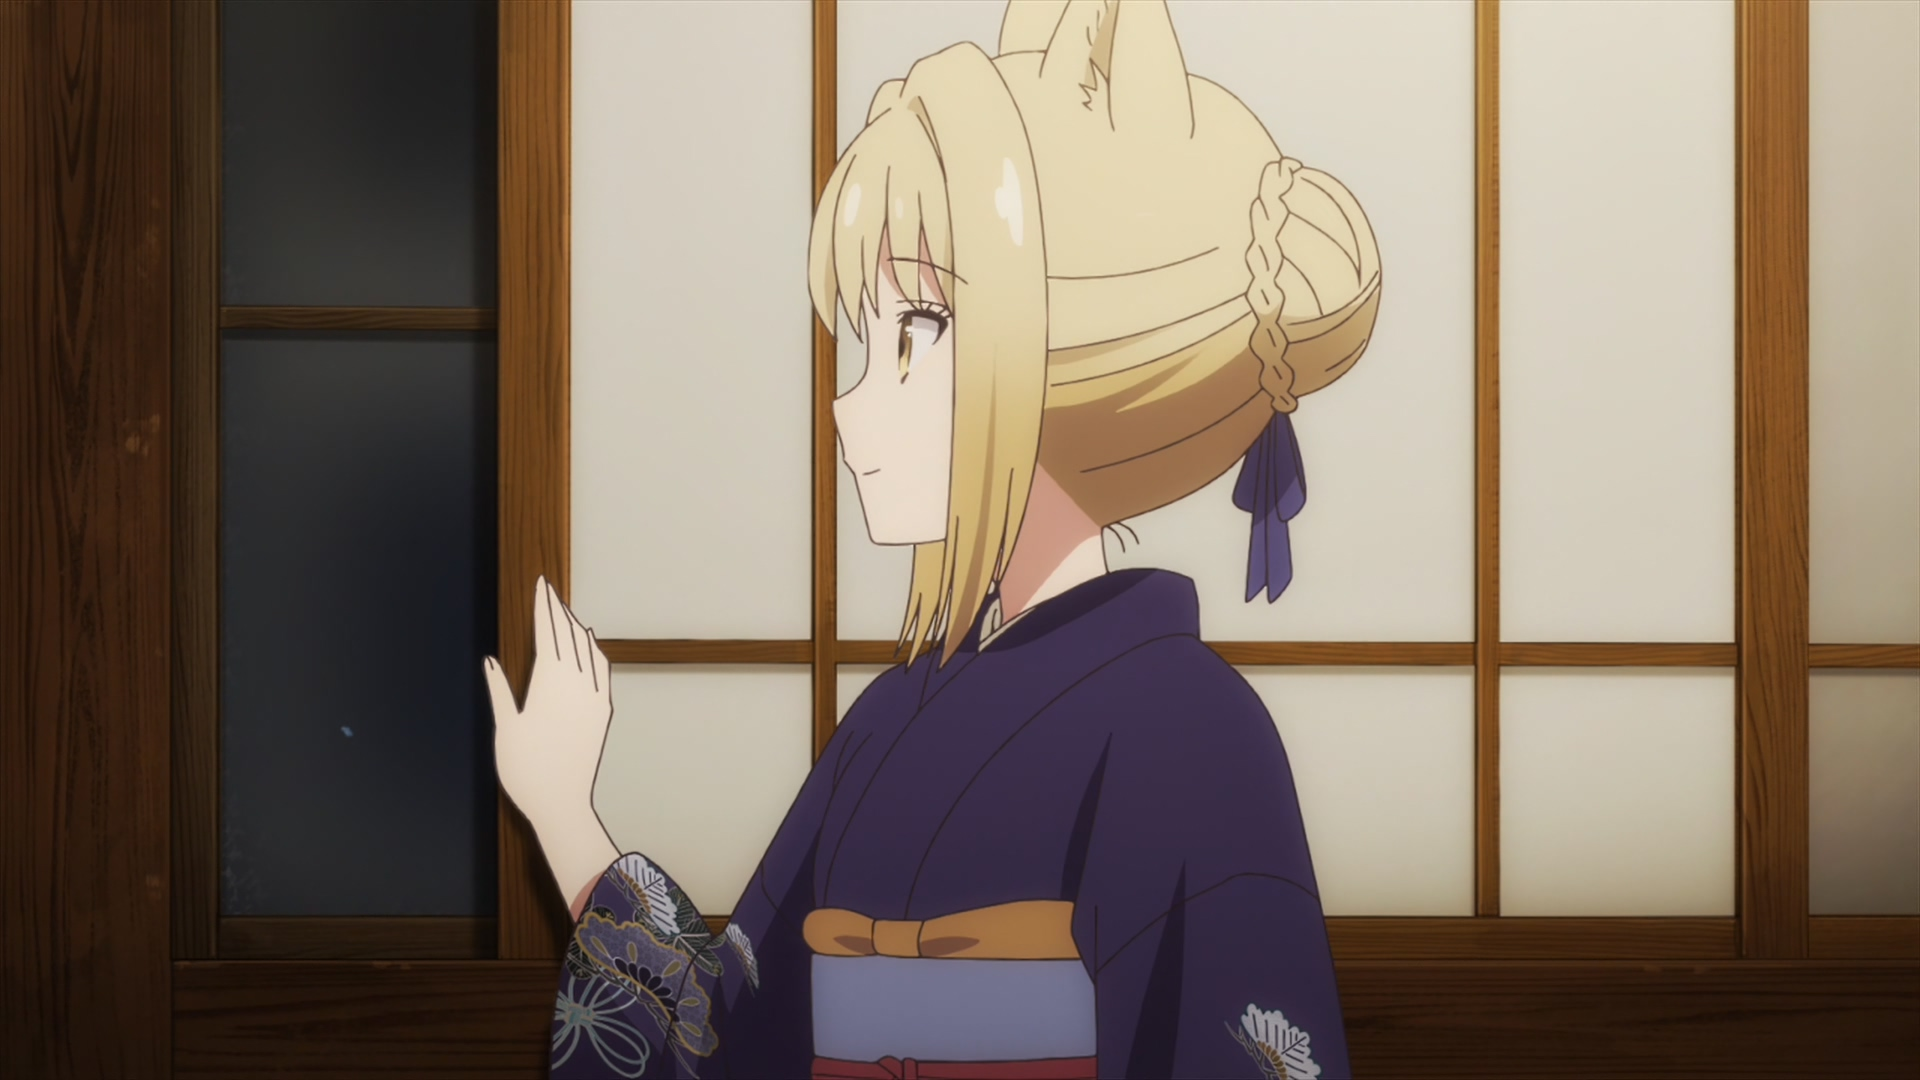桐: (481, 1, 1381, 1080)
